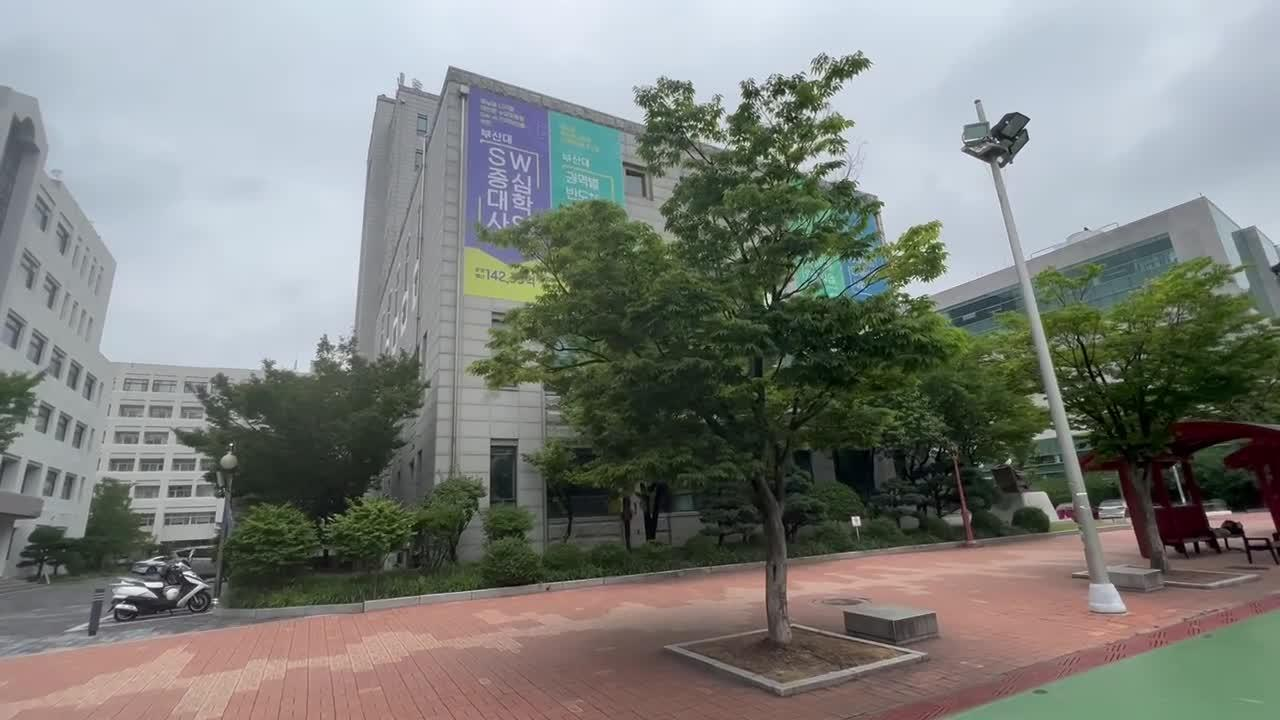building: (343, 69, 544, 331)
